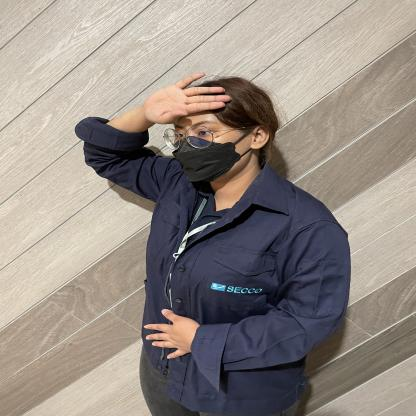Sick: (92, 60, 254, 130)
